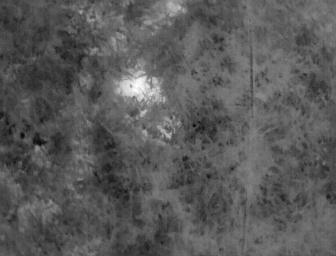landmine: (123, 68, 154, 101)
